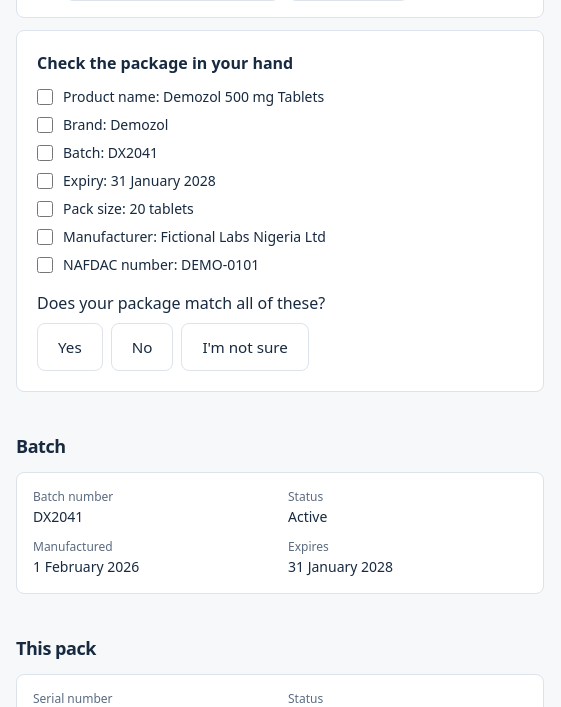
Test: repeat scans › holds the final result until the panel question is answered
(page scrolled)
Click the button "Yes".
click(70, 347)  # box top-left (37, 323), bottom-right (103, 371)
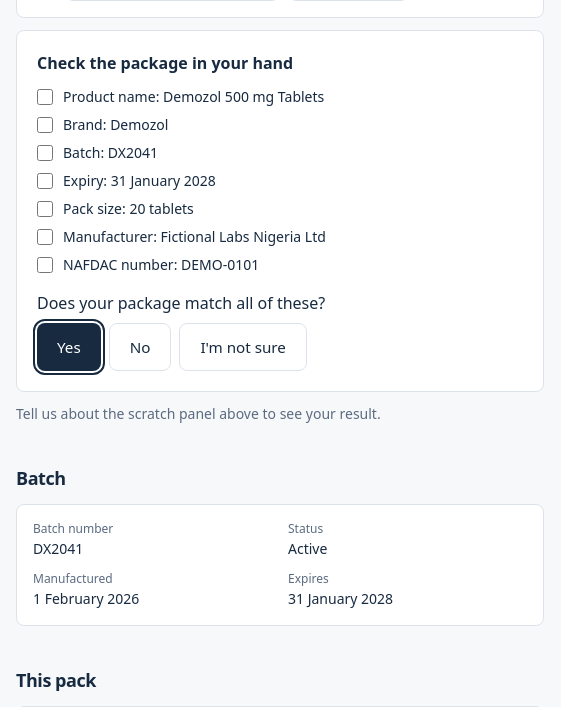
Expected: the text "Tell us about the scratch panel above to see your result." is shown, top-left (16, 404), bottom-right (381, 423)
